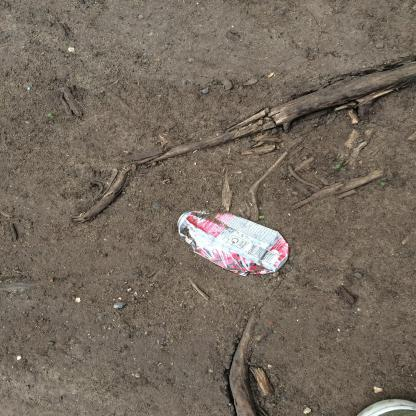metal: (178, 212, 291, 278)
